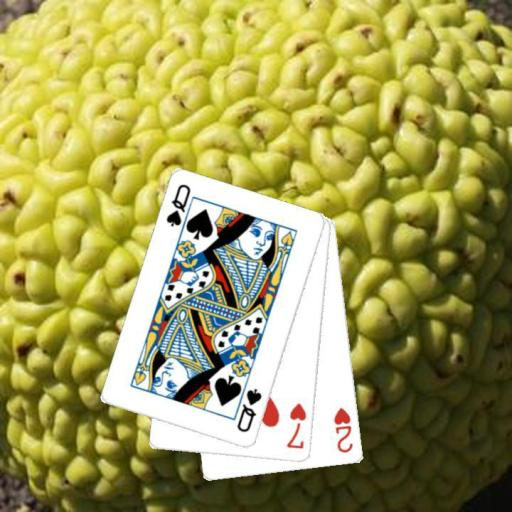2H: (331, 405, 355, 455)
7H: (284, 400, 308, 451)
QS: (234, 386, 264, 435), (163, 181, 193, 229)
